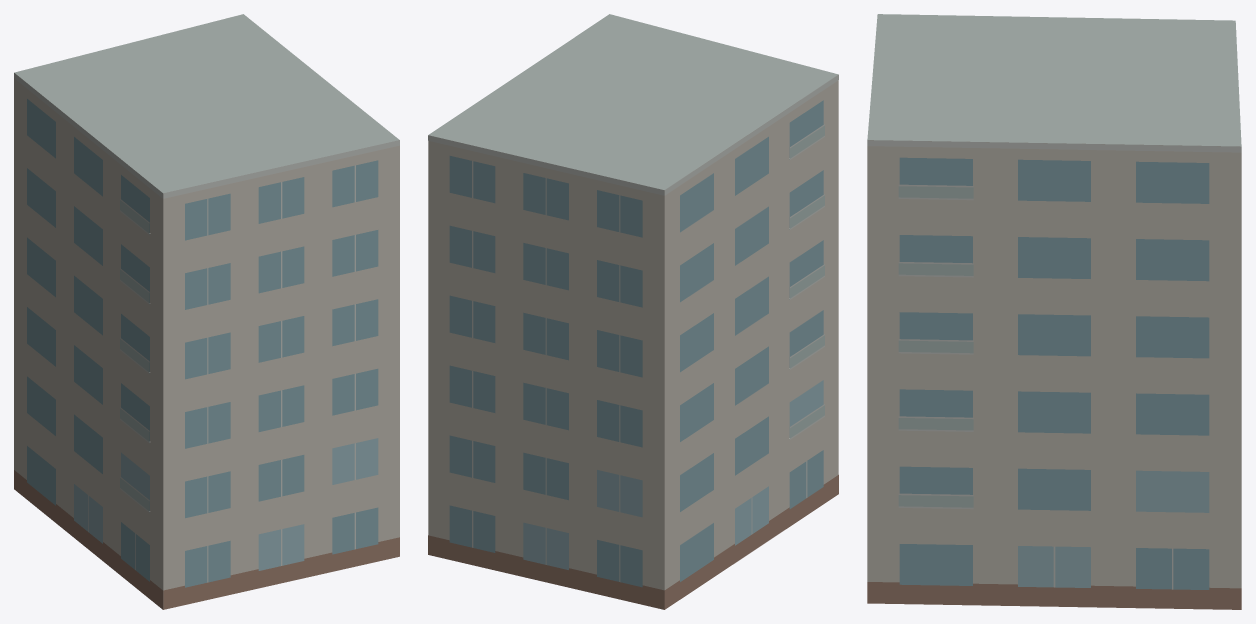
Rendered from survey-upis-32746849.glb.
3 renders of one model, left to right at view 1: azimuth 30°, elevation 25°; view 2: azimuth 150°, elevation 25°; view 3: azimuth 270°, elevation 25°, orthographic. The views are drawn at different scales.
Visible parts, largest first — view 1: survey-upis-32746849.tmp; view 2: survey-upis-32746849.tmp; view 3: survey-upis-32746849.tmp.
Boxes of the visible parts, x1=… form: survey-upis-32746849.tmp: x1=14, y1=14, x2=399, y2=609; survey-upis-32746849.tmp: x1=428, y1=14, x2=838, y2=609; survey-upis-32746849.tmp: x1=867, y1=14, x2=1241, y2=609.
Bounding box in the file's own units: 11.23 × 18.3 × 13.4.
